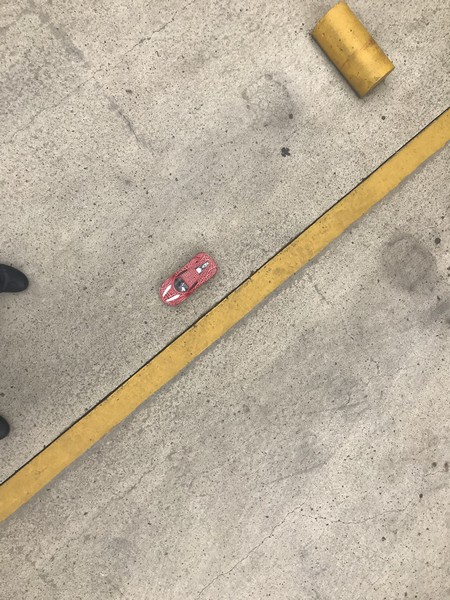RC: (157, 251, 219, 309)
